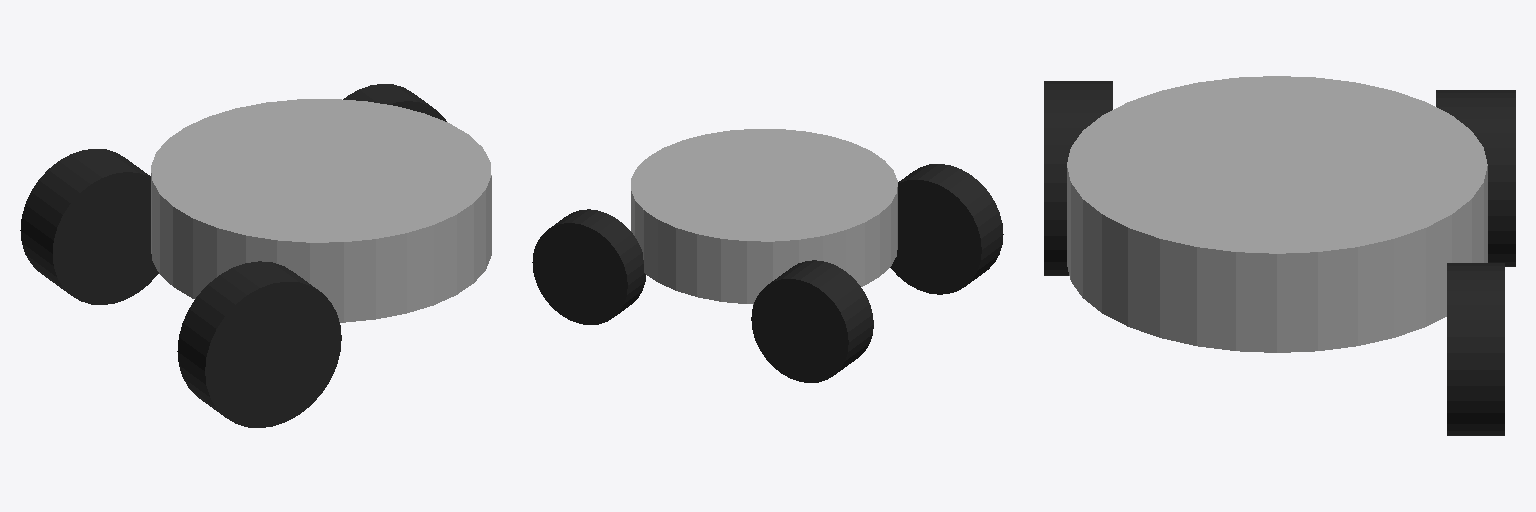
robot.urdf — evolved_robot:
<?xml version="1.0"?>
<robot name="evolved_robot">
  <material name="metal">
    <color rgba="0.7 0.7 0.7 1.0"/>
  </material>
  <material name="plastic">
    <color rgba="0.3 0.3 0.9 1.0"/>
  </material>
  <material name="rubber">
    <color rgba="0.1 0.1 0.1 1.0"/>
  </material>
  <material name="red">
    <color rgba="1.0 0.0 0.0 1.0"/>
  </material>
  <material name="wheel_material">
    <color rgba="0.2 0.2 0.2 1.0"/>
  </material>
  <link name="base_link">
    <visual>
      <geometry><cylinder radius="0.21200906357197905" length="0.11022022719318435"/></geometry>
      <material name="metal"/>
    </visual>
    <collision>
      <geometry><cylinder radius="0.21200906357197905" length="0.11022022719318435"/></geometry>
    </collision>
    <inertial>
      <mass value="5.0"/>
      <inertia ixx="0.12249335632709961" ixy="0" ixz="0" 
               iyy="0.12249335632709961" iyz="0" 
               izz="0.22473921518333728"/>
    </inertial>
  </link>
  <link name="link1">
    <visual>
      <geometry>
        <cylinder radius="0.08711925243107854" length="0.059151969912863825"/>
      </geometry>
      <material name="wheel_material"/>
    </visual>
    <collision>
      <geometry>
        <cylinder radius="0.08711925243107854" length="0.059151969912863825"/>
      </geometry>
    </collision>
    <inertial>
      <mass value="1.0"/>
      <inertia ixx="0.0021890206647518584" ixy="0" ixz="0" 
               iyy="0.0021890206647518584" iyz="0" 
               izz="0.003794882072074992"/>
    </inertial>
  </link>
  <joint name="joint1" type="continuous">
    <parent link="base_link"/>
    <child link="link1"/>
    <origin xyz="0.20392043819496078 0.20009768894899732 -0.055110113596592174" rpy="1.5708 0 0"/>
    <axis xyz="0 1 0"/>
    <dynamics damping="0.774559054972679" friction="0.1"/>
  </joint>
  <link name="link2">
    <visual>
      <geometry>
        <cylinder radius="0.08902642884227707" length="0.07961897329818665"/>
      </geometry>
      <material name="wheel_material"/>
    </visual>
    <collision>
      <geometry>
        <cylinder radius="0.08902642884227707" length="0.07961897329818665"/>
      </geometry>
    </collision>
    <inertial>
      <mass value="1.0"/>
      <inertia ixx="0.002509691333857036" ixy="0" ixz="0" 
               iyy="0.002509691333857036" iyz="0" 
               izz="0.003962852516204512"/>
    </inertial>
  </link>
  <joint name="joint2" type="continuous">
    <parent link="base_link"/>
    <child link="link2"/>
    <origin xyz="-0.20392043819496078 0.20009768894899732 -0.055110113596592174" rpy="1.5708 0 0"/>
    <axis xyz="0 1 0"/>
    <dynamics damping="0.767644077413774" friction="0.1"/>
  </joint>
  <link name="link3">
    <visual>
      <geometry>
        <cylinder radius="0.09804986650718484" length="0.06867844833311373"/>
      </geometry>
      <material name="wheel_material"/>
    </visual>
    <collision>
      <geometry>
        <cylinder radius="0.09804986650718484" length="0.06867844833311373"/>
      </geometry>
    </collision>
    <inertial>
      <mass value="1.0"/>
      <inertia ixx="0.0027965048526395397" ixy="0" ixz="0" 
               iyy="0.0027965048526395397" iyz="0" 
               izz="0.004806888161038384"/>
    </inertial>
  </link>
  <joint name="joint3" type="continuous">
    <parent link="base_link"/>
    <child link="link3"/>
    <origin xyz="-0.20392043819496078 -0.20009768894899732 -0.055110113596592174" rpy="1.5708 0 0"/>
    <axis xyz="0 1 0"/>
    <dynamics damping="0.8012664024146566" friction="0.1"/>
  </joint>
</robot>

--- Render facts (derived) ---
3 views of the same robot in one strip: view 1: azimuth 30°, elevation 25°; view 2: azimuth 150°, elevation 25°; view 3: azimuth 270°, elevation 25° (orthographic).
Robot: evolved_robot — 4 links, 3 joints (3 continuous); root link base_link; default pose: every joint at zero.
Visible links, largest first — view 1: base_link, link3, link2, link1; view 2: base_link, link3, link2, link1; view 3: base_link, link1, link2, link3.
Link boxes in pixels (x1,y1,x2,y2): base_link: (151,99,491,322); link3: (177,261,341,427); link2: (20,149,158,304); link1: (343,84,446,121); base_link: (631,129,897,304); link3: (890,164,1003,294); link2: (751,260,873,382); link1: (532,209,645,324); base_link: (1067,76,1487,352); link1: (1447,263,1504,435); link2: (1436,90,1515,266); link3: (1044,81,1112,275).
Bounding box of the posed robot: 0.593 × 0.4743 × 0.2083 m (x, y, z).
Geometry: primitives only (box / cylinder / sphere), no mesh files.